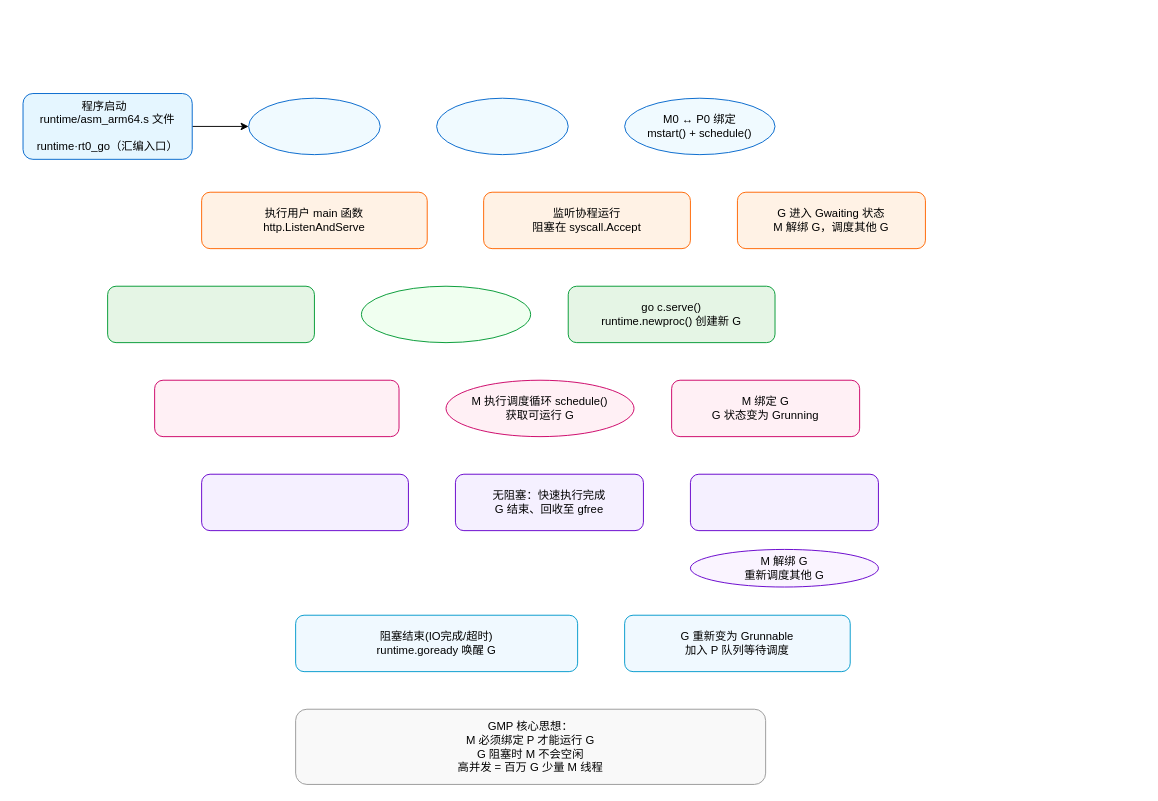
Image size: 1158x801. Some labels were removed from this diagram. Here are the shapes that lost their labels. From the top down, the centre of each, then its label:
At [314,126]: "初始化 M0 + G0 双向绑定".
At [502,126]: "初始化 P0 procresize()".
At [210,314]: "客户端请求到达 内核唤醒 Accept".
At [445,314]: "监听 G 被唤醒 Gwaiting → Grunnable".
At [276,408]: "新 G 加入 P 本地队列 满则放入 schedt.globrunq".
At [304,502]: "执行 HTTP 业务 Handler".
At [783,502]: "有阻塞(IO/chan/sleep) G 进入 Gwaiting".
